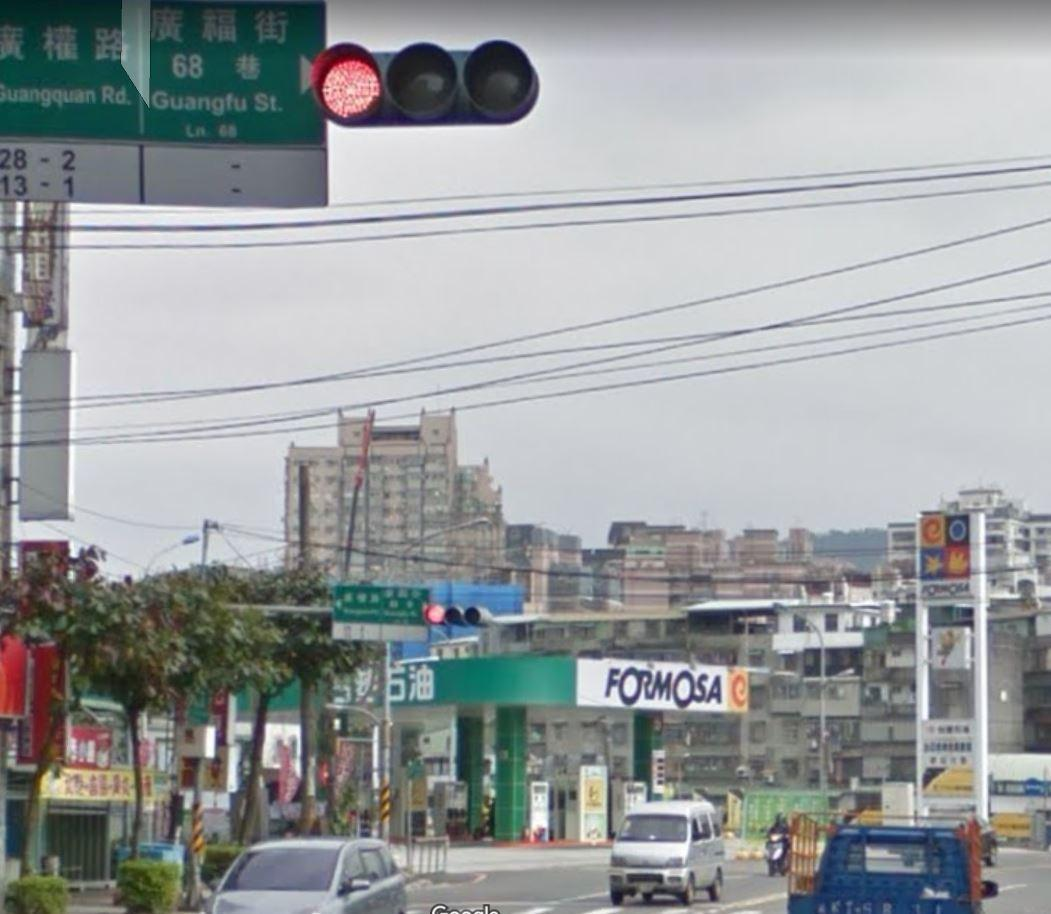red_traffic_light: (309, 39, 538, 125)
